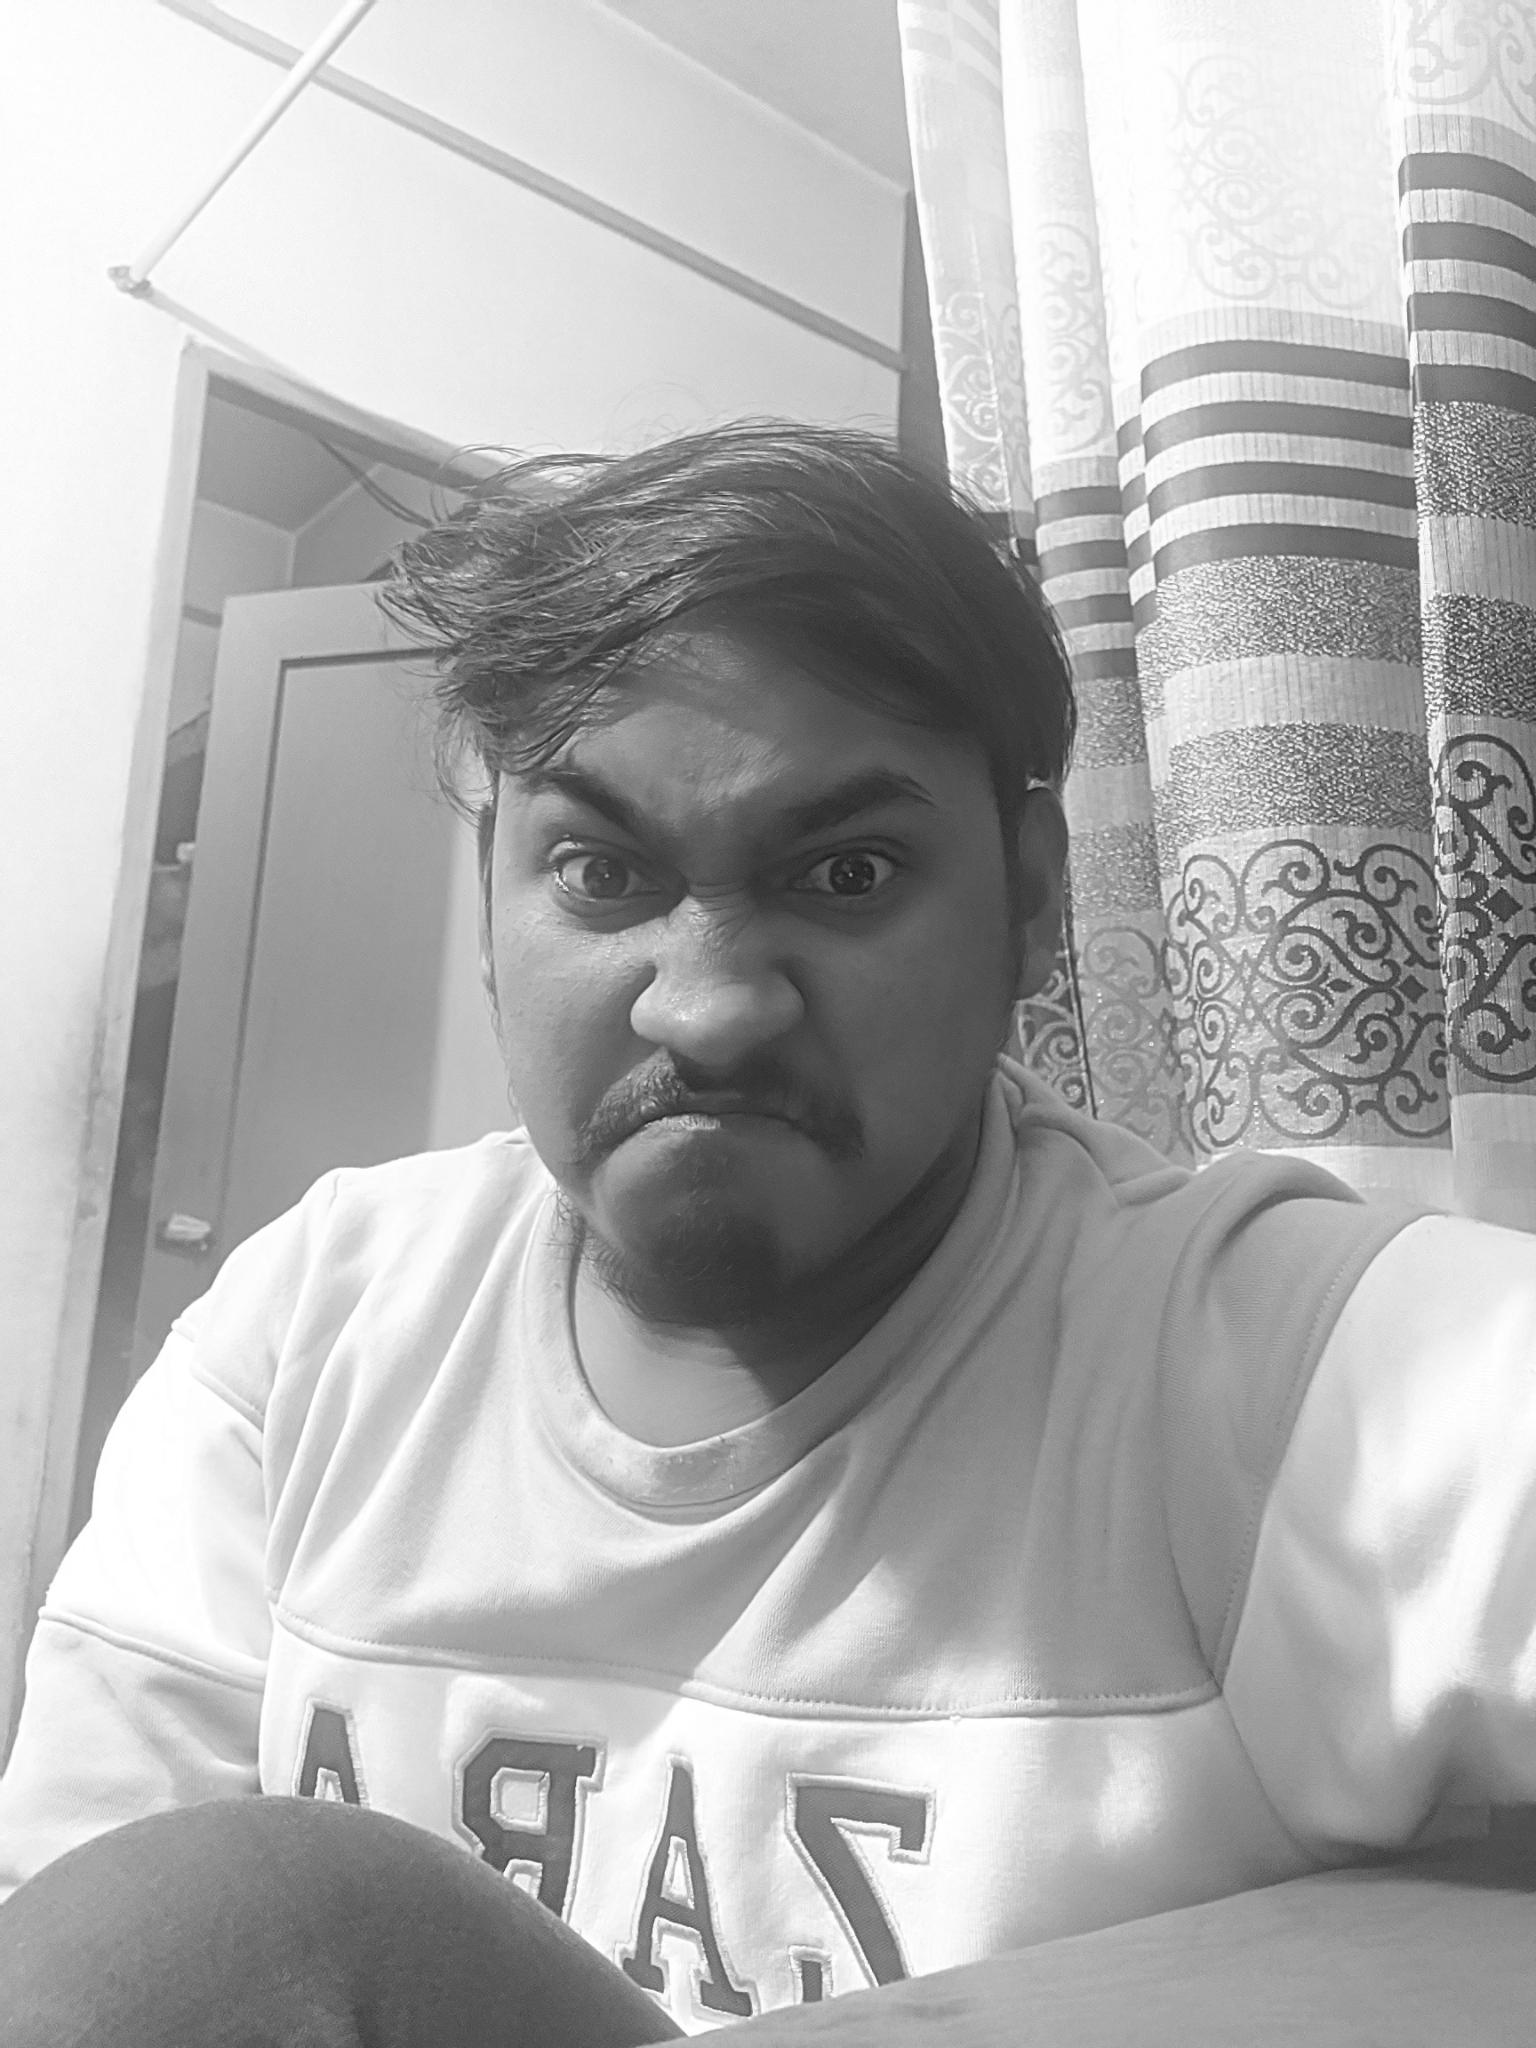Angry: (473, 643, 1028, 1337)
